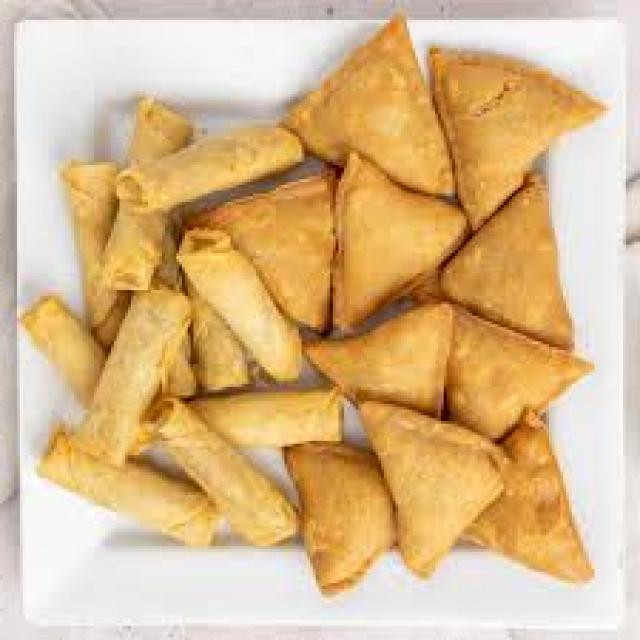Samosa: (293, 12, 620, 594)
Spring Rolls: (28, 83, 296, 546)
